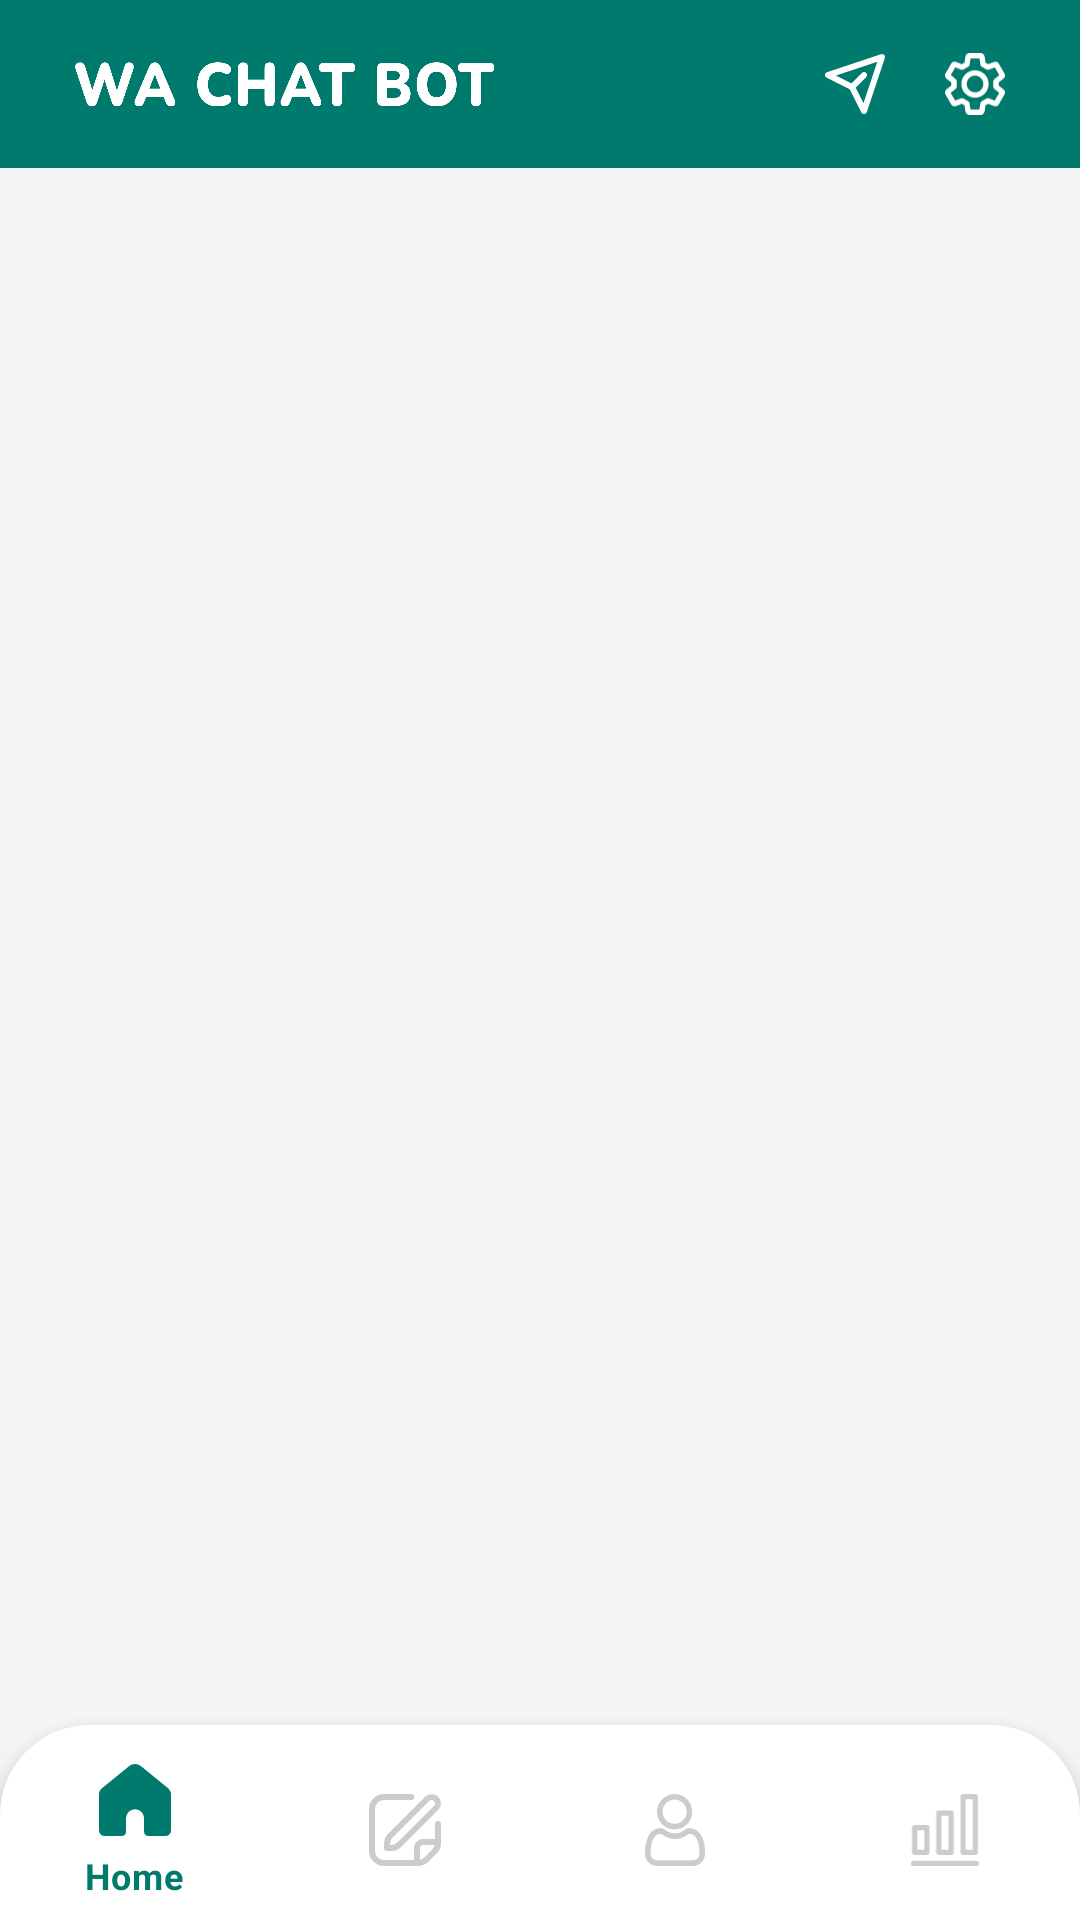

Screen size 1080px x 1920px. Icon name, then its box in pixels as {"x1": x1, "y1": y1, "x2": x2, "y2": y2}:
send: {"x1": 825, "y1": 54, "x2": 885, "y2": 114}
setting: {"x1": 945, "y1": 53, "x2": 1005, "y2": 115}
